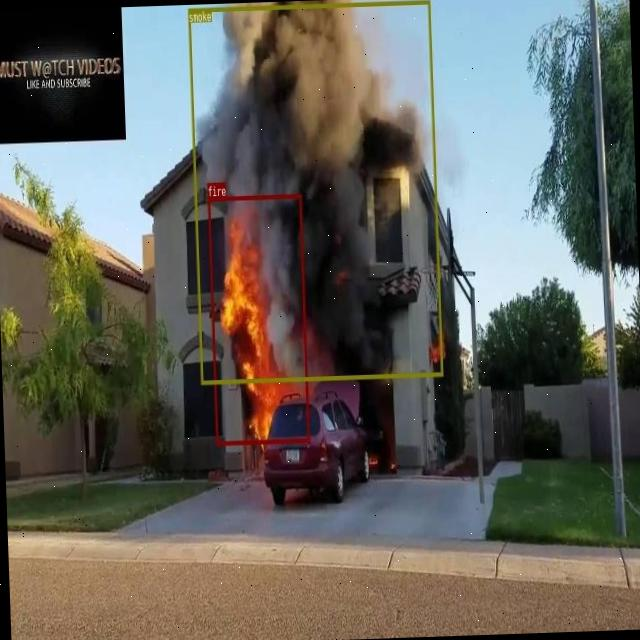fire: (206, 194, 310, 444)
smoke: (188, 0, 442, 383)
